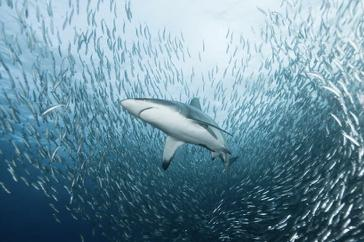Shark -Selachimorpha-: (116, 87, 240, 177)
